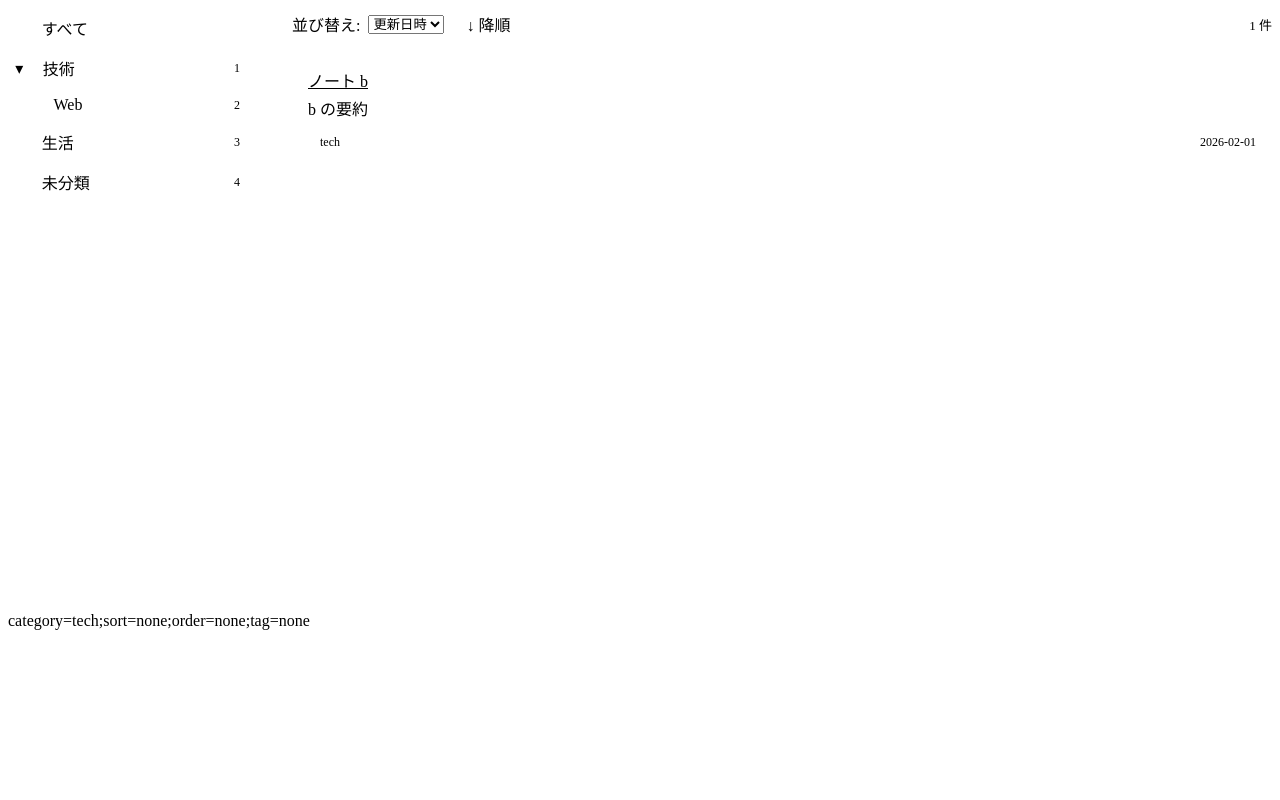
CategoryTree — 選択状態の URL 反映 › 「すべて」で ?category= が消える / 未分類は _uncategorized
The width and height of the screenshot is (1280, 800).
Click the button named "未分類のノート件数".
click(141, 182)  # box [30,162,252,202]
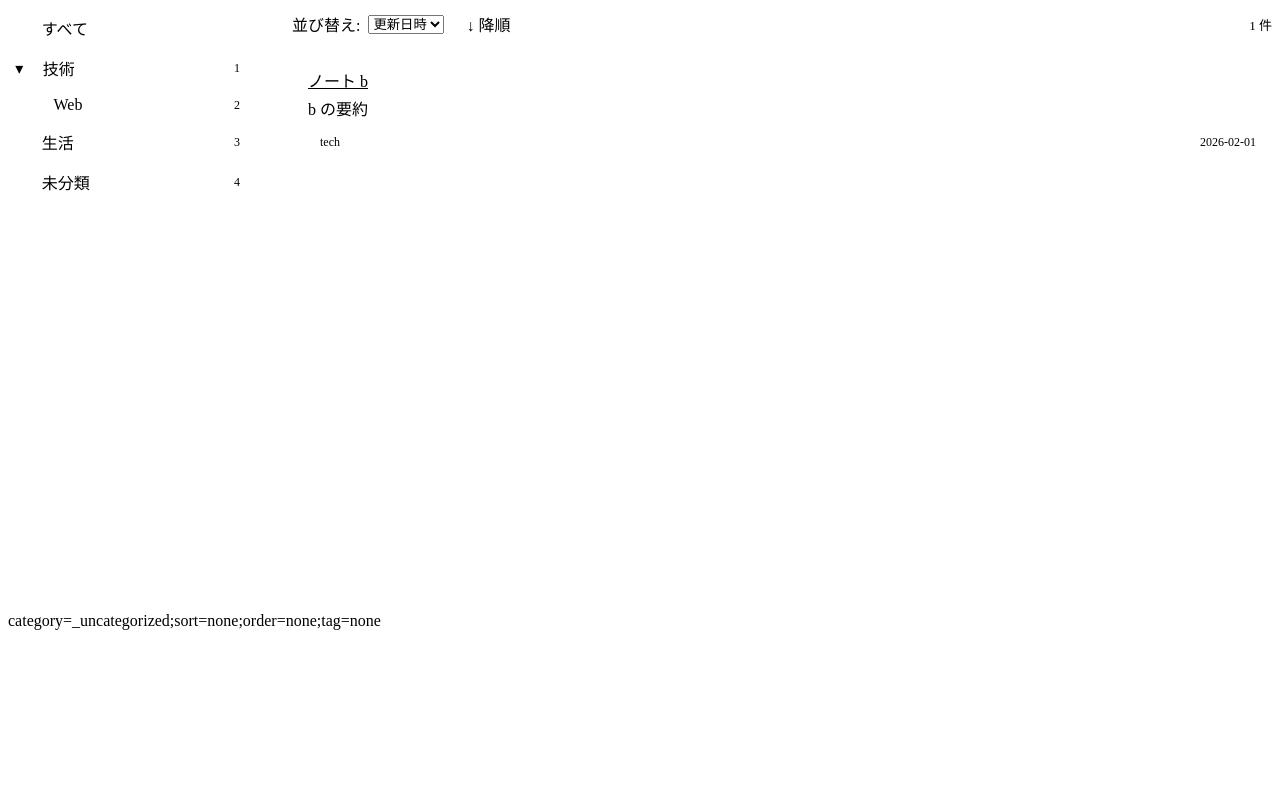
Result: the text with test id "probe" shows "category=_uncategorized" at [8,612,381,629]
Click the button "すべて".
click(141, 28)  # box [30,8,252,48]
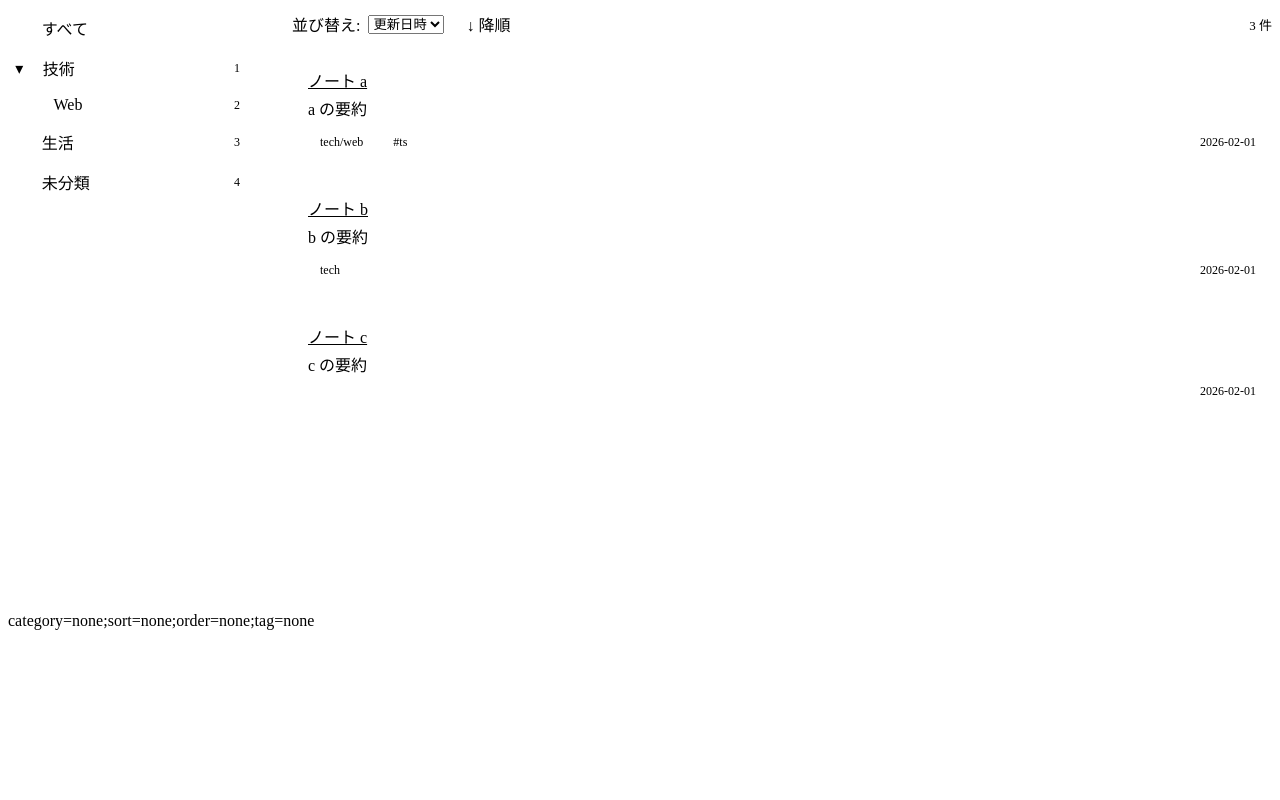
Result: the text with test id "probe" shows "category=none" at [8,612,314,629]
